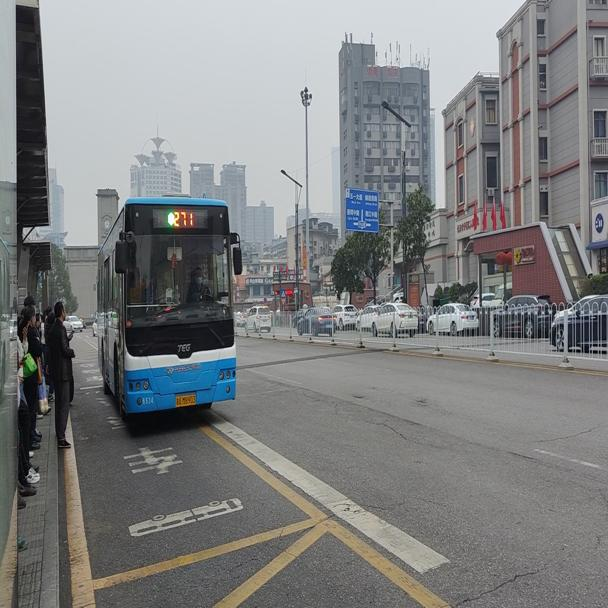bus: (97, 193, 238, 412)
screen: (172, 204, 194, 227)
